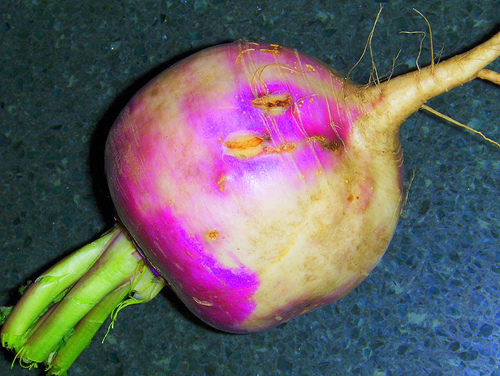turnip: (0, 4, 499, 375)
